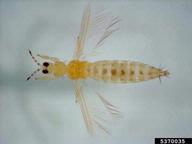Thrips: (23, 3, 172, 135)
